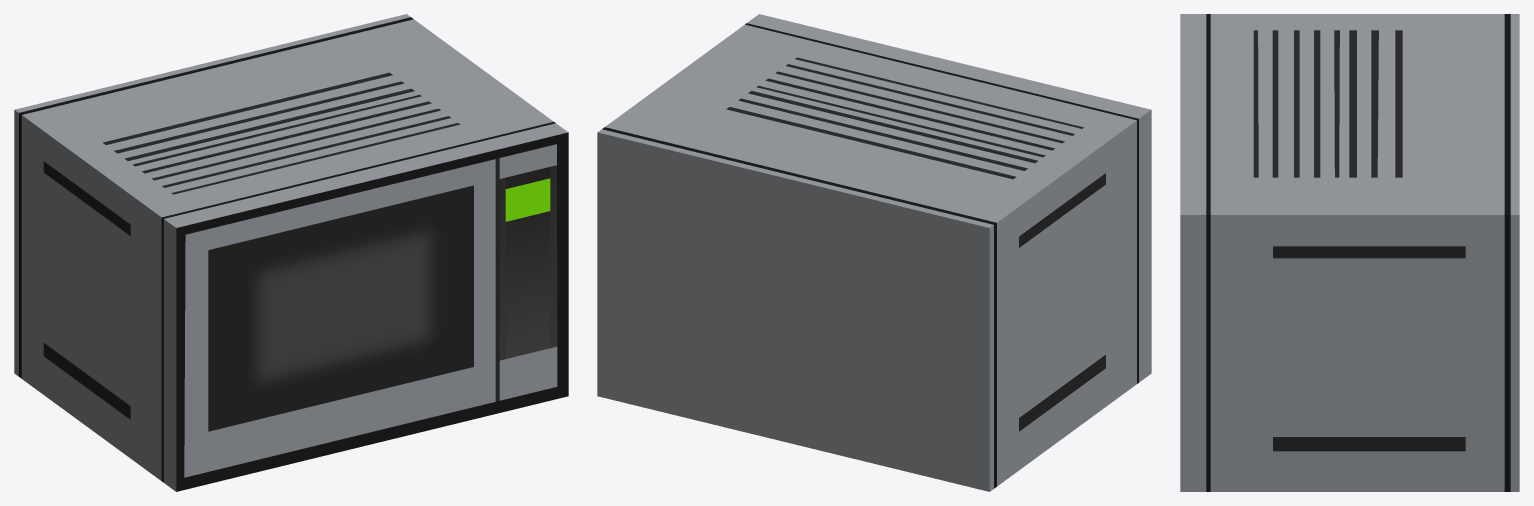
File: Microwave_Oven.fbx
3 views of the same model, side by side, from view 1: azimuth 30°, elevation 25°; view 2: azimuth 150°, elevation 25°; view 3: azimuth 270°, elevation 25° (orthographic). The views are drawn at different scales.
Visible parts, largest first — view 1: polySurface748; view 2: polySurface748; view 3: polySurface748.
Boxes of the visible parts, x1,y1,x2,y2 form: polySurface748: [14, 14, 568, 491]; polySurface748: [597, 14, 1151, 491]; polySurface748: [1180, 14, 1519, 491].
Bounding box in the file's own units: 0.7 × 0.45 × 0.5.
1 material, 1 textured.
